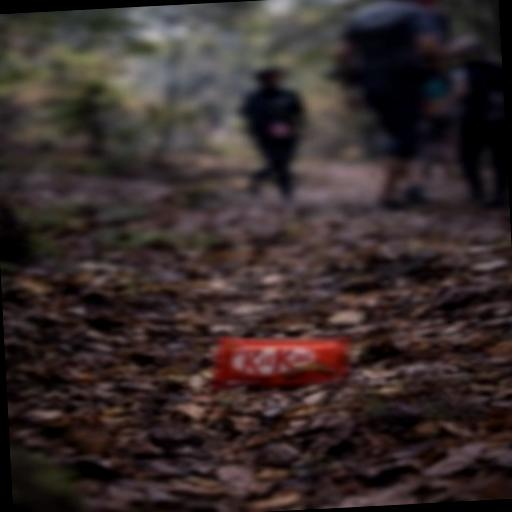kitkat: (178, 294, 418, 418)
